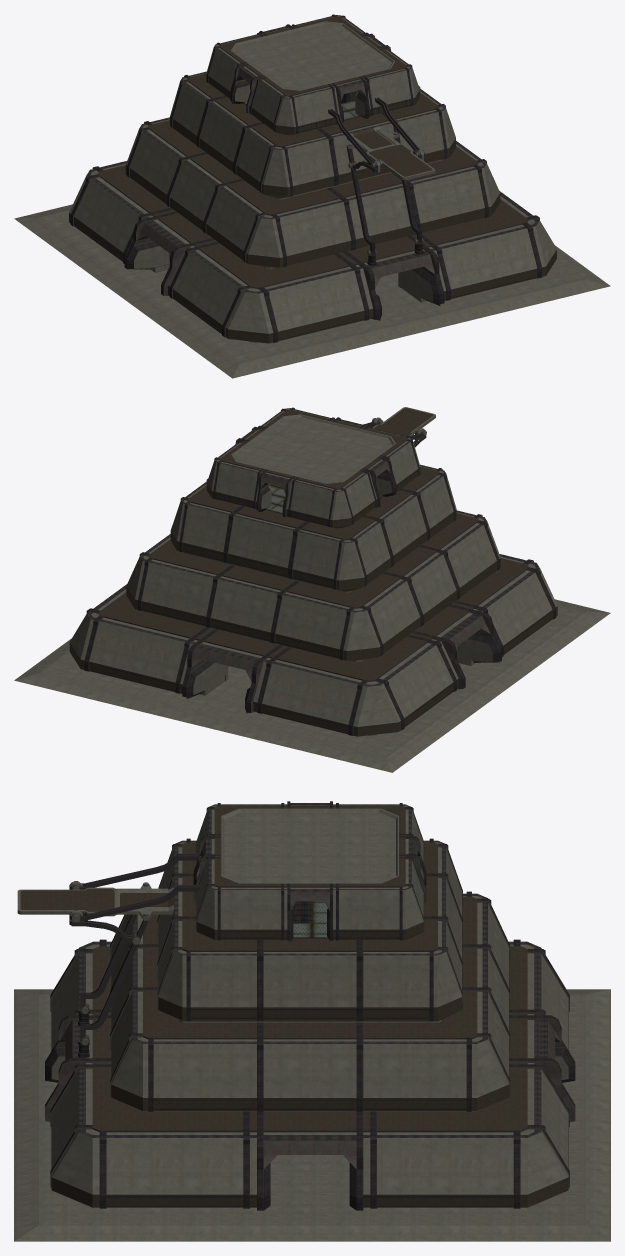
File: newzig4.fbx
3 views of the same model, one above another, from view 1: azimuth 30°, elevation 25°; view 2: azimuth 150°, elevation 25°; view 3: azimuth 270°, elevation 25° (orthographic). The views are drawn at different scales.
Parts seen in each view (by area): view 1: Object; view 2: Object; view 3: Object.
Boxes of the visible parts, left/top/right/bottom form: Object: left=14, top=14, right=610, bottom=378; Object: left=14, top=407, right=610, bottom=772; Object: left=14, top=801, right=610, bottom=1241.
Bounding box in the file's own units: 19200 × 9553 × 19200.
